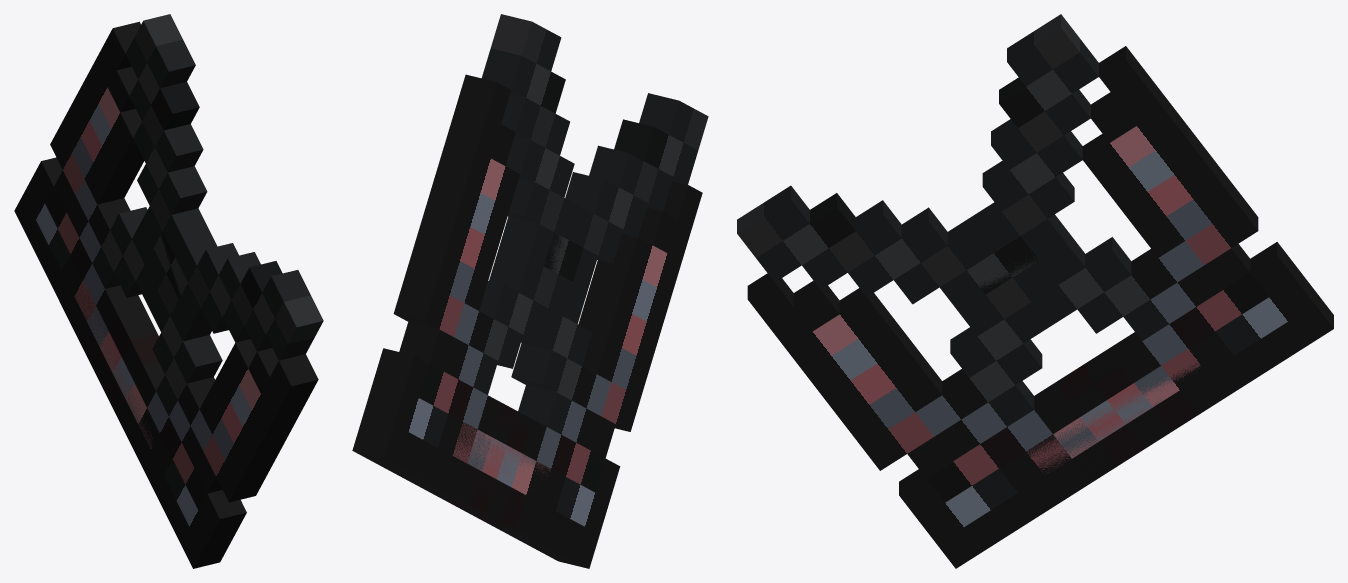
Rendered from dragonsteel_fire_pickaxe.glb.
3 views of the same model, side by side, from view 1: azimuth 30°, elevation 25°; view 2: azimuth 150°, elevation 25°; view 3: azimuth 270°, elevation 25° (orthographic). The views are drawn at different scales.
Visible parts, largest first — view 1: off__Tool_L, main__Tool_R; view 2: main__Tool_R, off__Tool_L; view 3: off__Tool_L, main__Tool_R.
Boxes of the visible parts, box(x1,y1,x2,y2) form: off__Tool_L: box(52, 14, 318, 568); main__Tool_R: box(14, 21, 323, 491); main__Tool_R: box(352, 74, 708, 544); off__Tool_L: box(397, 14, 702, 568); off__Tool_L: box(747, 14, 1252, 568); main__Tool_R: box(737, 46, 1333, 517).
Bounding box in the file's own units: 0.0531 × 0.9619 × 0.9619.
1 material, 1 textured.
